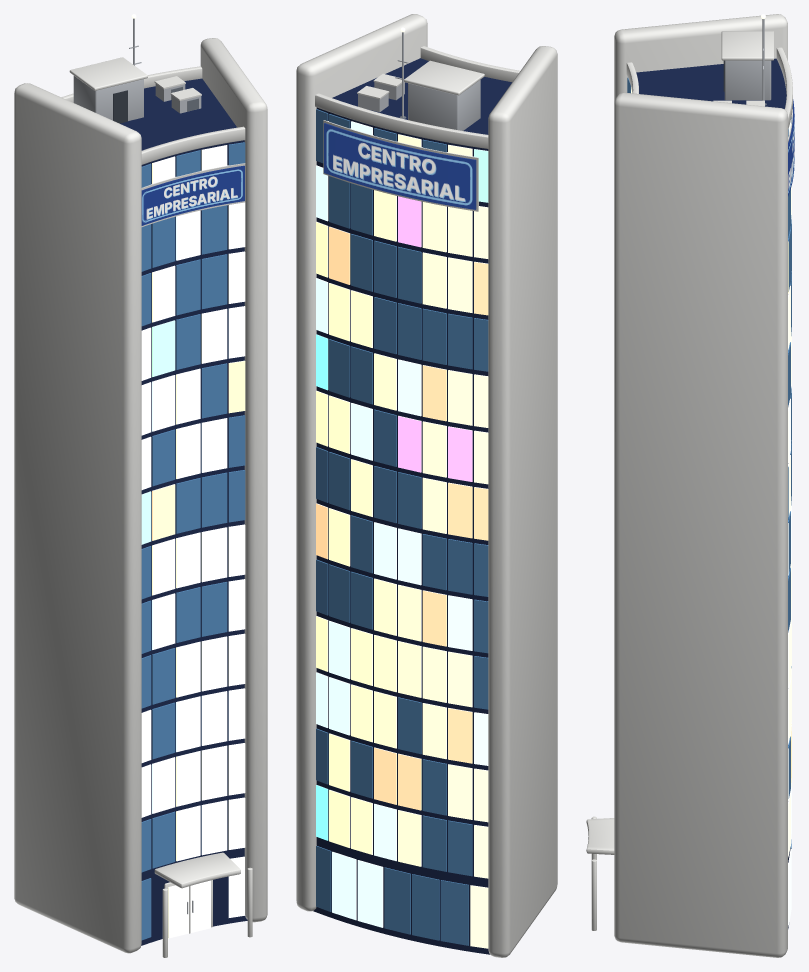
Rendered from torre_curva_empresarial.glb.
The picture shows the model from 3 angles, left to right: view 1: azimuth 30°, elevation 25°; view 2: azimuth 150°, elevation 25°; view 3: azimuth 270°, elevation 25°; orthographic projection. The views are drawn at different scales.
Parts seen in each view (by area): view 1: torre_curva_empresarial; view 2: torre_curva_empresarial; view 3: torre_curva_empresarial.
Part boxes in pixels (box(x1,y1,x2,y2)): torre_curva_empresarial: box(14, 14, 267, 957); torre_curva_empresarial: box(296, 14, 557, 957); torre_curva_empresarial: box(586, 14, 794, 957).
Bounding box in the file's own units: 12.63 × 51.01 × 10.71.
Materials: 10 (2 with a texture image).
